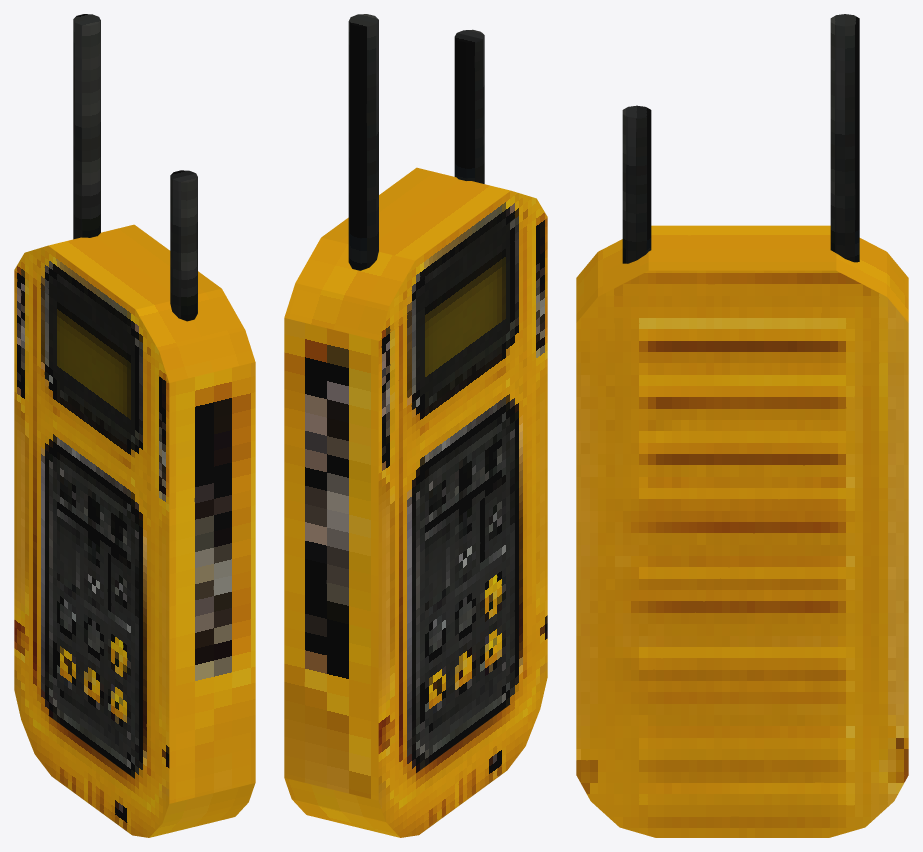
File: psx-style_walkie-talkie.glb
The picture shows the model from 3 angles, left to right: view 1: azimuth 30°, elevation 25°; view 2: azimuth 150°, elevation 25°; view 3: azimuth 270°, elevation 25°; orthographic projection. The views are drawn at different scales.
Parts seen in each view (by area): view 1: cuboid_0, cylinder_2, cylinder_3; view 2: cuboid_0, cylinder_2, cylinder_3; view 3: cuboid_0, cylinder_2, cylinder_3.
Boxes of the visible parts, x1=… form: cuboid_0: x1=14, y1=224, x2=255, y2=837; cylinder_2: x1=73, y1=14, x2=100, y2=239; cylinder_3: x1=170, y1=170, x2=197, y2=321; cuboid_0: x1=284, y1=167, x2=547, y2=837; cylinder_2: x1=348, y1=14, x2=378, y2=270; cylinder_3: x1=454, y1=29, x2=484, y2=183; cuboid_0: x1=576, y1=225, x2=908, y2=837; cylinder_2: x1=830, y1=14, x2=859, y2=262; cylinder_3: x1=622, y1=105, x2=651, y2=263.
Bounding box in the file's own units: 0.2313 × 1.9 × 0.7188.
Materials: 1 (1 with a texture image).
